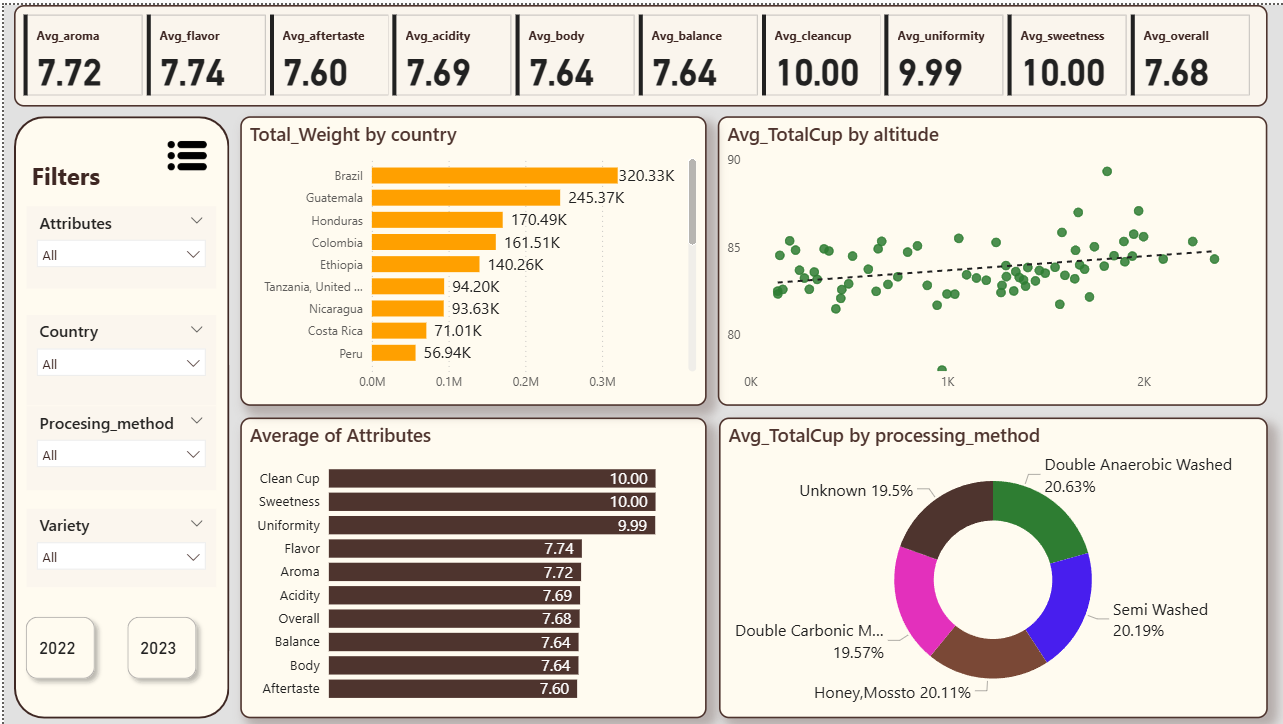

What the dashboard file says about the page in this screenshot:
{"tool":"powerbi","page":{"name":"sensory Attributes","canvas":[1280,720],"ordinal":1},"visuals":[{"type":"clusteredBarChart","fields":{"Category":["DimAttributes.Attribute"],"Y":["All_measures.Avg Attribute Score"]},"box":[236,413,466.6,300.5],"z":0},{"type":"shape","box":[9.6,111.1,215.4,602.4],"z":1000},{"type":"advancedSlicerVisual","fields":{"Values":["DimDate.Date.Variation.Date Hierarchy.Year"]},"box":[4.9,595.5,220.1,79.5],"z":2000},{"type":"slicer","fields":{"Values":["dim_country.country_of_origin"]},"box":[22,310.1,189.4,90.6],"z":3000},{"type":"slicer","fields":{"Values":["dim_processing_method.processing_method"]},"box":[22,400.7,189.4,83.7],"z":4000},{"type":"slicer","fields":{"Values":["dim_variety.variety"]},"box":[22,503.6,189.4,78.2],"z":5000},{"type":"textbox","box":[22,149.6,137.2,52.1],"z":6000},{"type":"cardVisual","fields":{"Data":["All_measures.Avg_aroma","All_measures.Avg_flavor","All_measures.Avg_aftertaste","All_measures.Avg_acidity","All_measures.Avg_body","All_measures.Avg_balance","All_measures.Avg_cleancup","All_measures.Avg_uniformity","All_measures.Avg_sweetness","All_measures.Avg_overall"]},"box":[10.1,0,1253.7,101.2],"z":7000},{"type":"slicer","fields":{"Values":["DimAttributes.Attribute"]},"box":[22,201.7,189.4,82.3],"z":8000},{"type":"scatterChart","fields":{"X":["fact_coffee.altitude"],"Y":["All_measures.Avg_TotalCup"]},"box":[714.3,111.3,549.5,289.2],"z":9000},{"type":"donutChart","fields":{"Category":["dim_processing_method.processing_method"],"Y":["All_measures.Avg_TotalCup"]},"box":[714.9,413,548.9,300.5],"z":10000},{"type":"clusteredBarChart","title":"Total_Weight by country","fields":{"Category":["dim_country.country_of_origin","dim_country.region","dim_variety.variety"],"Y":["All_measures.Total_Weight"]},"box":[236,111.1,466.6,289.5],"z":11000},{"type":"image","title":"open","box":[141.7,125.8,83.9,49.2],"z":15000}]}

Visuals, with their boxes in screenshot pixels (x1, y1, x2, y2), scaled from the page's 1280x720 canvas onto the 1283x724 screenshot:
clusteredBarChart - DimAttributes.Attribute x All_measures.Avg Attribute Score: [237,415,704,717]
shape: [10,112,226,717]
advancedSlicerVisual - DimDate.Date.Variation.Date Hierarchy.Year: [5,599,226,679]
slicer - dim_country.country_of_origin: [22,312,212,403]
slicer - dim_processing_method.processing_method: [22,403,212,487]
slicer - dim_variety.variety: [22,506,212,585]
textbox: [22,150,160,203]
cardVisual - All_measures.Avg_aroma x All_measures.Avg_flavor: [10,0,1267,102]
slicer - DimAttributes.Attribute: [22,203,212,286]
scatterChart - fact_coffee.altitude x All_measures.Avg_TotalCup: [716,112,1267,403]
donutChart - dim_processing_method.processing_method x All_measures.Avg_TotalCup: [717,415,1267,717]
"Total_Weight by country" clusteredBarChart: [237,112,704,403]
"open" image: [142,126,226,176]
